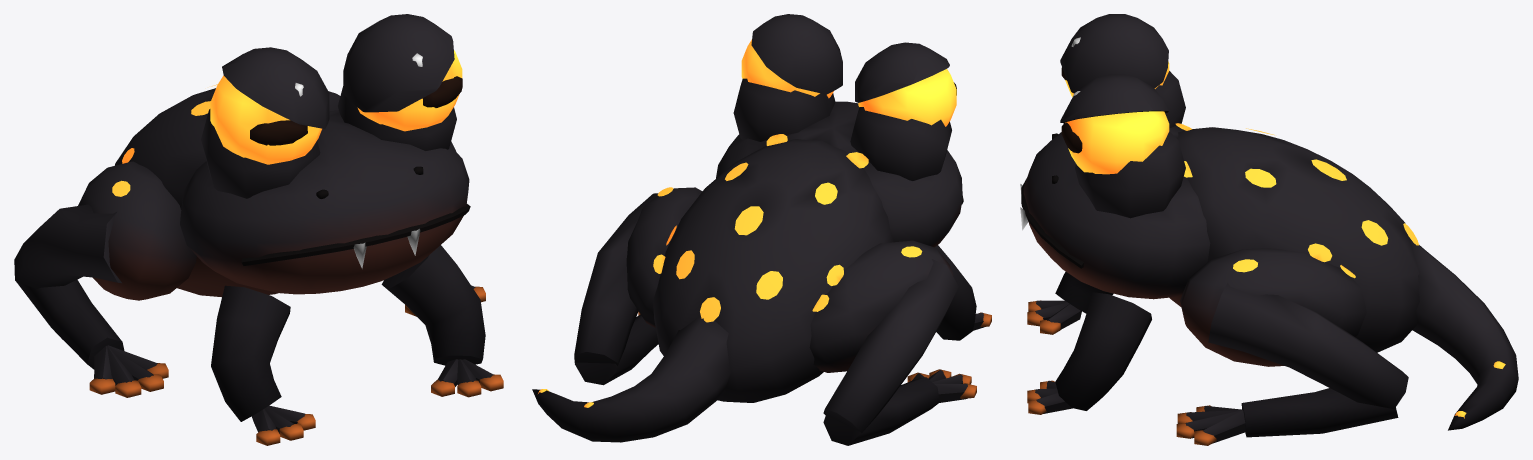
The model's file is hopper_volcano.glb.
3 renders of one model, left to right at view 1: azimuth 30°, elevation 25°; view 2: azimuth 150°, elevation 25°; view 3: azimuth 270°, elevation 25°, orthographic. The views are drawn at different scales.
Parts seen in each view (by area): view 1: body, leg_R; view 2: body, leg_R, leg_L; view 3: body, leg_L.
Boxes of the visible parts, <box> form: body: <box>115,14,503,445</box>; leg_R: <box>14,161,196,397</box>; body: <box>532,14,991,442</box>; leg_R: <box>809,240,976,445</box>; leg_L: <box>574,187,702,385</box>; body: <box>1020,14,1518,430</box>; leg_L: <box>1176,248,1408,445</box>.
Size of the model in its own units: 0.9481 by 0.8 by 1.15.
